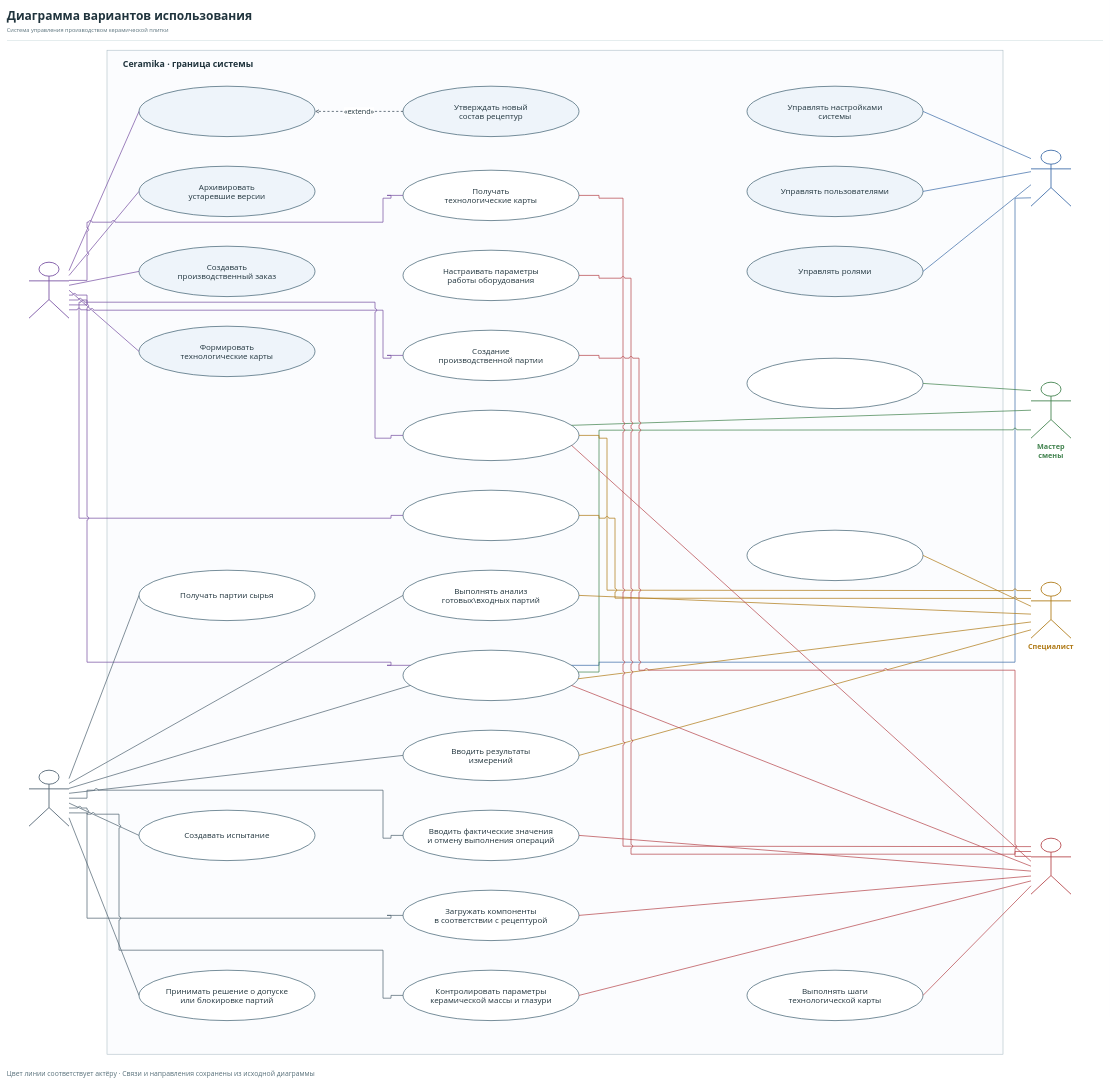
The diagram is 1110 pixels wide and 1087 high, and some of its shapes have lost their labels. The centre of each missing label's shape, as x and y in pixels:
Авторизоваться: pixel 490 675
Администратор: pixel 1050 178
Анализировать отклонения и результаты: pixel 490 515
Контролировать процесс производства: pixel 834 383
Лаборант: pixel 48 798
Оператор линии в цехе: pixel 1050 866
Получать рецептуры: pixel 490 435
Создавать/изменять состав рецептур: pixel 226 111
Технолог: pixel 48 290
Формировать отчёты: pixel 834 555
